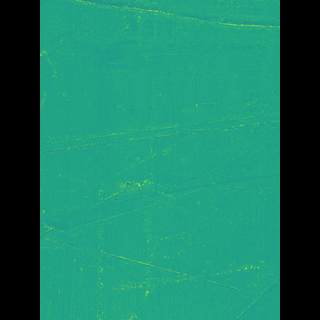Loch: (69, 142, 249, 251), (97, 0, 251, 80), (69, 104, 250, 161)
